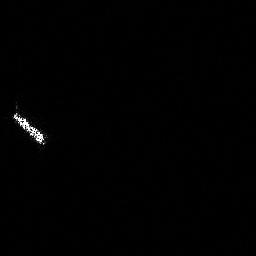ship: (12, 111, 45, 144)
